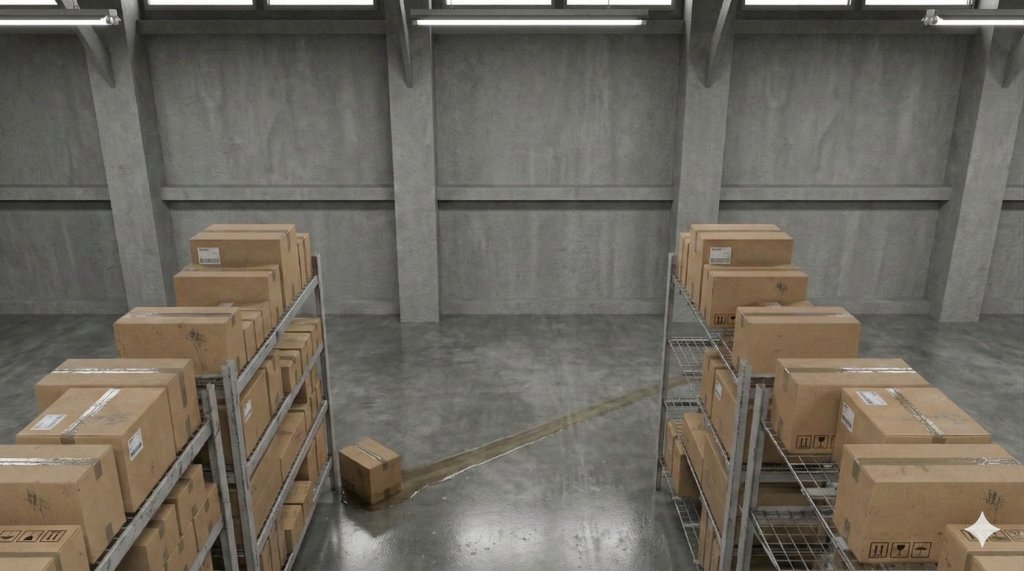obstacle: (334, 429, 411, 523)
spill: (325, 394, 635, 505)
